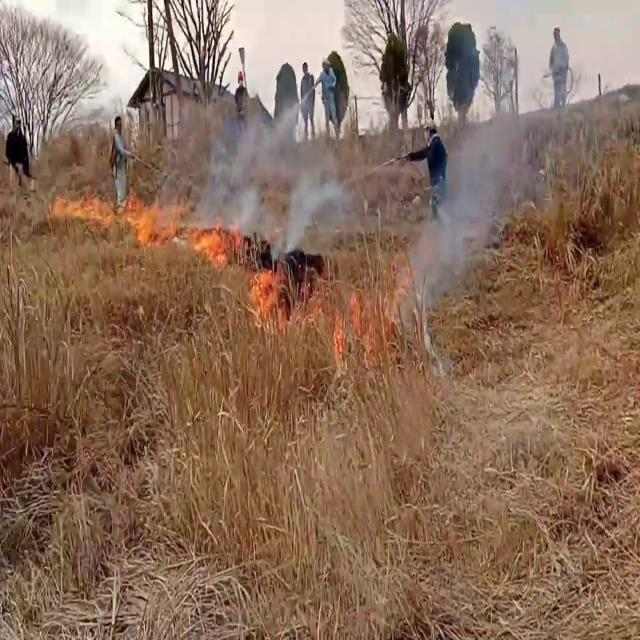Fire: (56, 173, 188, 259), (324, 250, 428, 358), (242, 257, 300, 338)
Smoke: (414, 72, 550, 308), (189, 99, 337, 258)
